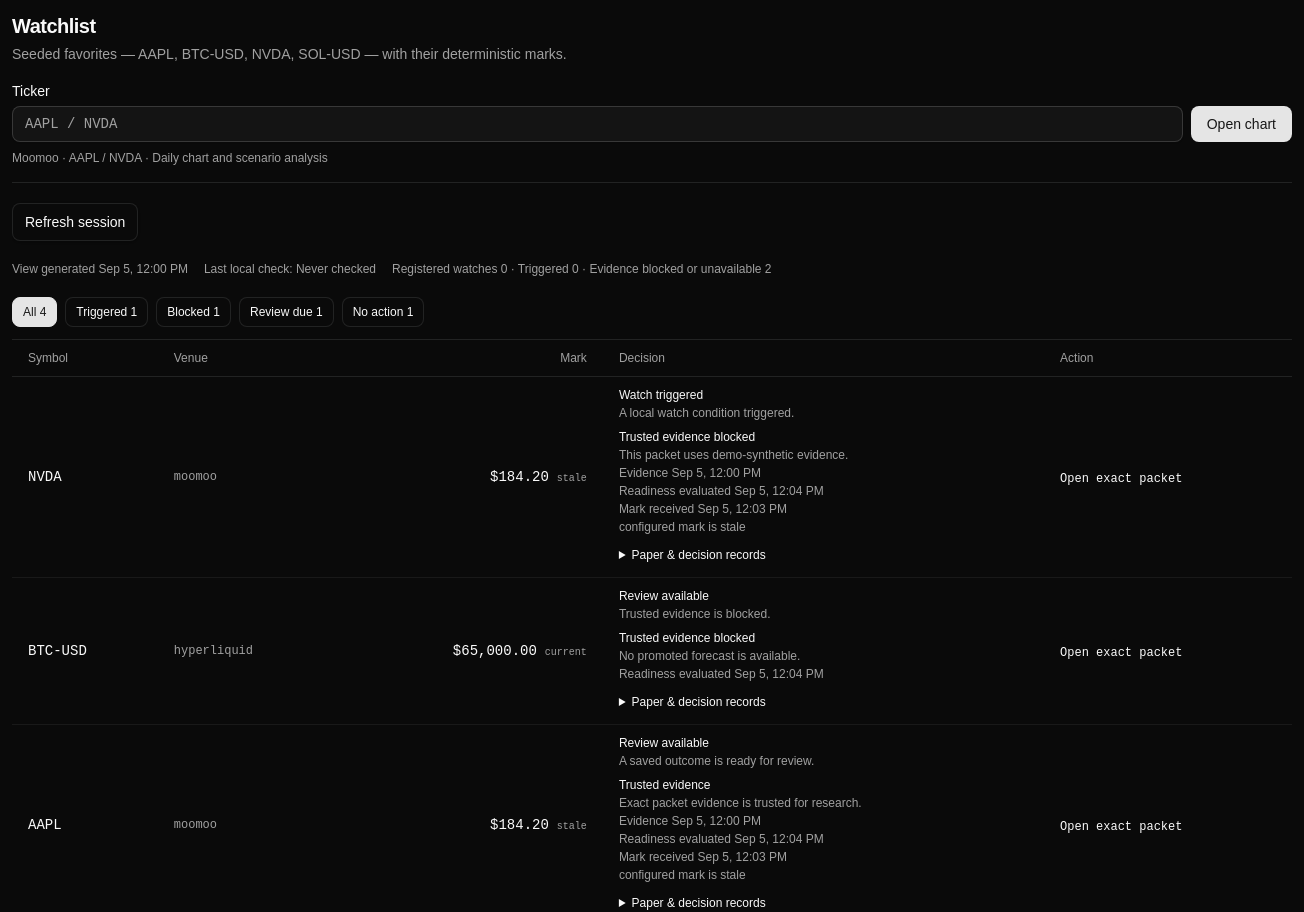
it: filters the four textual attention buckets while preserving exact packet identity
Expected: the button "Triggered 1" is shown, [65, 297, 148, 327]
Expected: the button "Review due 1" is shown, [239, 297, 334, 327]
Click the button "Blocked 1".
click(194, 312)  # box [156, 297, 231, 327]
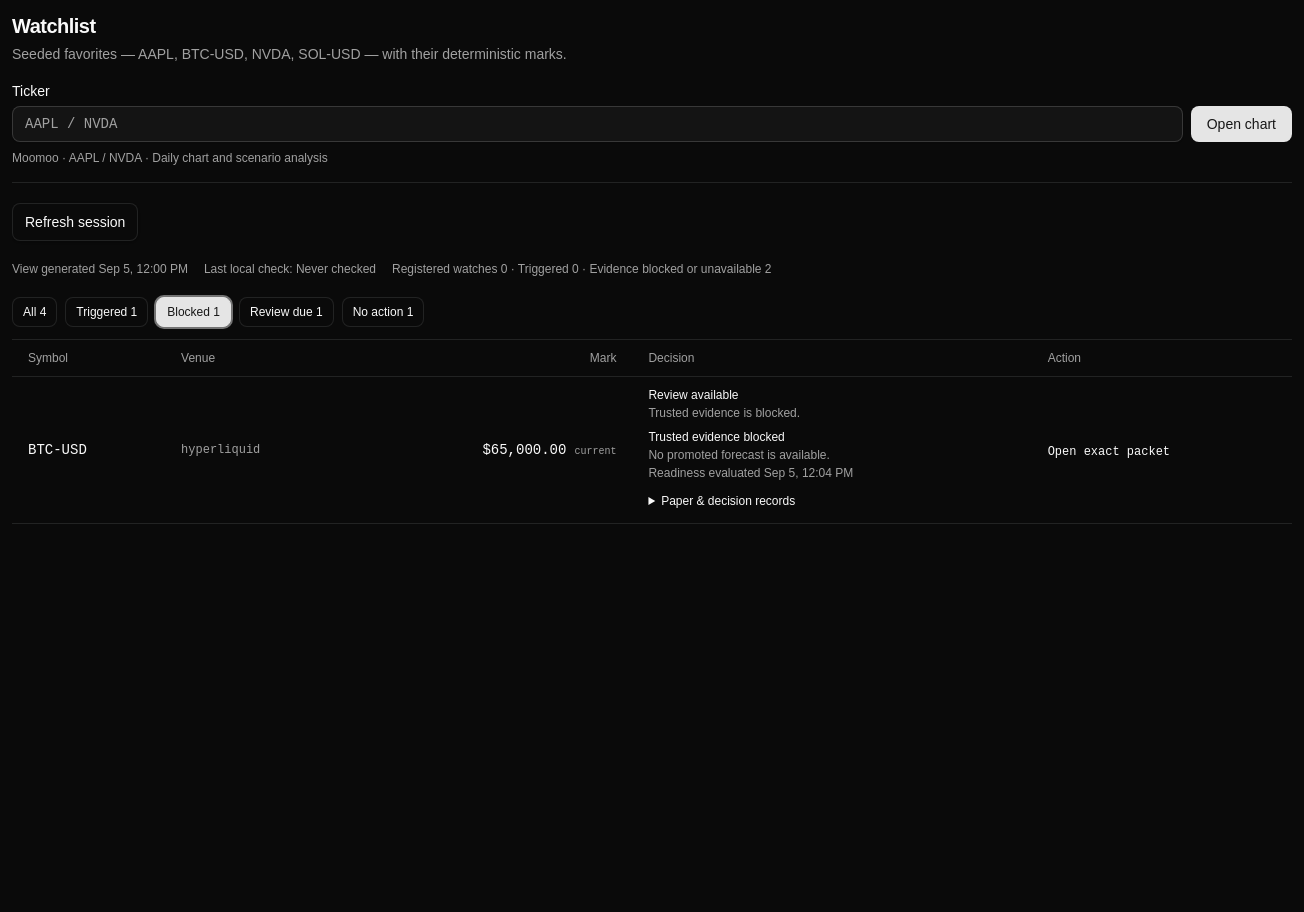
Expected: the text "BTC-USD" is shown, [12, 376, 165, 523]
Expected: the button "Blocked 1" is pressed, [156, 297, 231, 327]
Click the button "Triggered 1".
click(107, 312)  # box [65, 297, 148, 327]
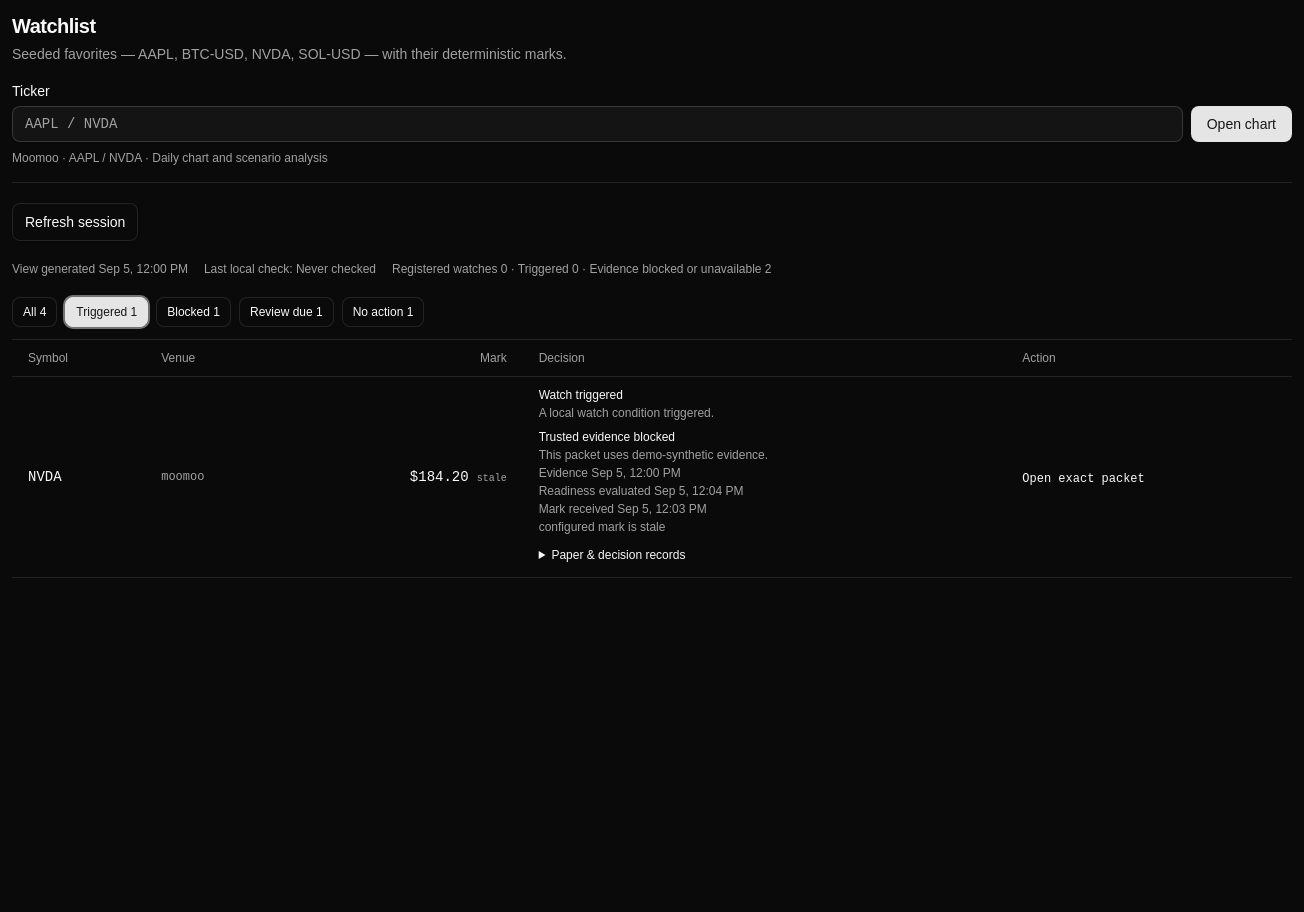
Expected: the link "NVDA" is shown, [28, 469, 62, 485]
Click the button "Review due 1".
click(286, 312)  # box [239, 297, 334, 327]
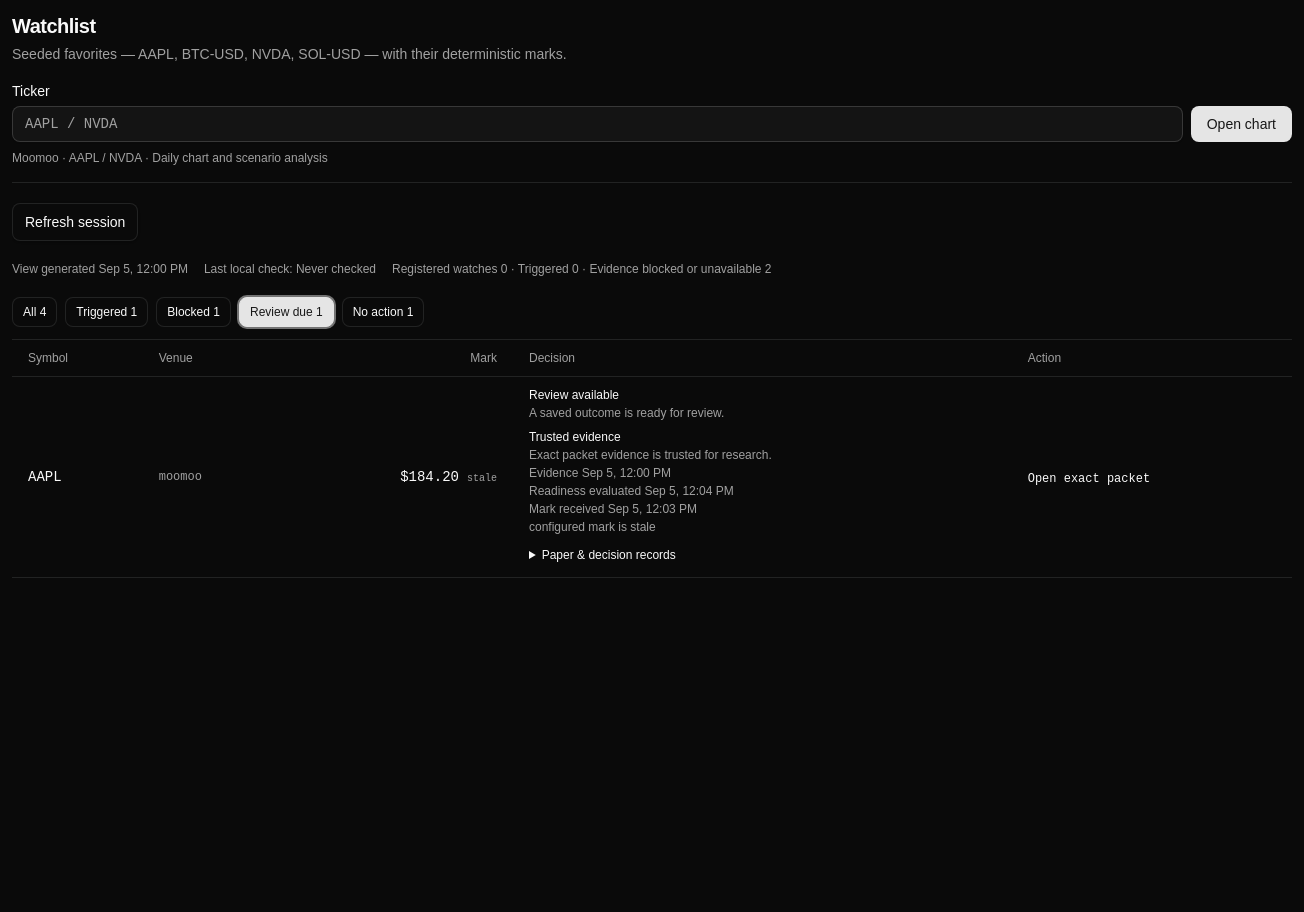
Expected: the link "AAPL" is shown, [28, 469, 62, 485]
Click the button "No action 1".
click(383, 312)  # box [342, 297, 424, 327]
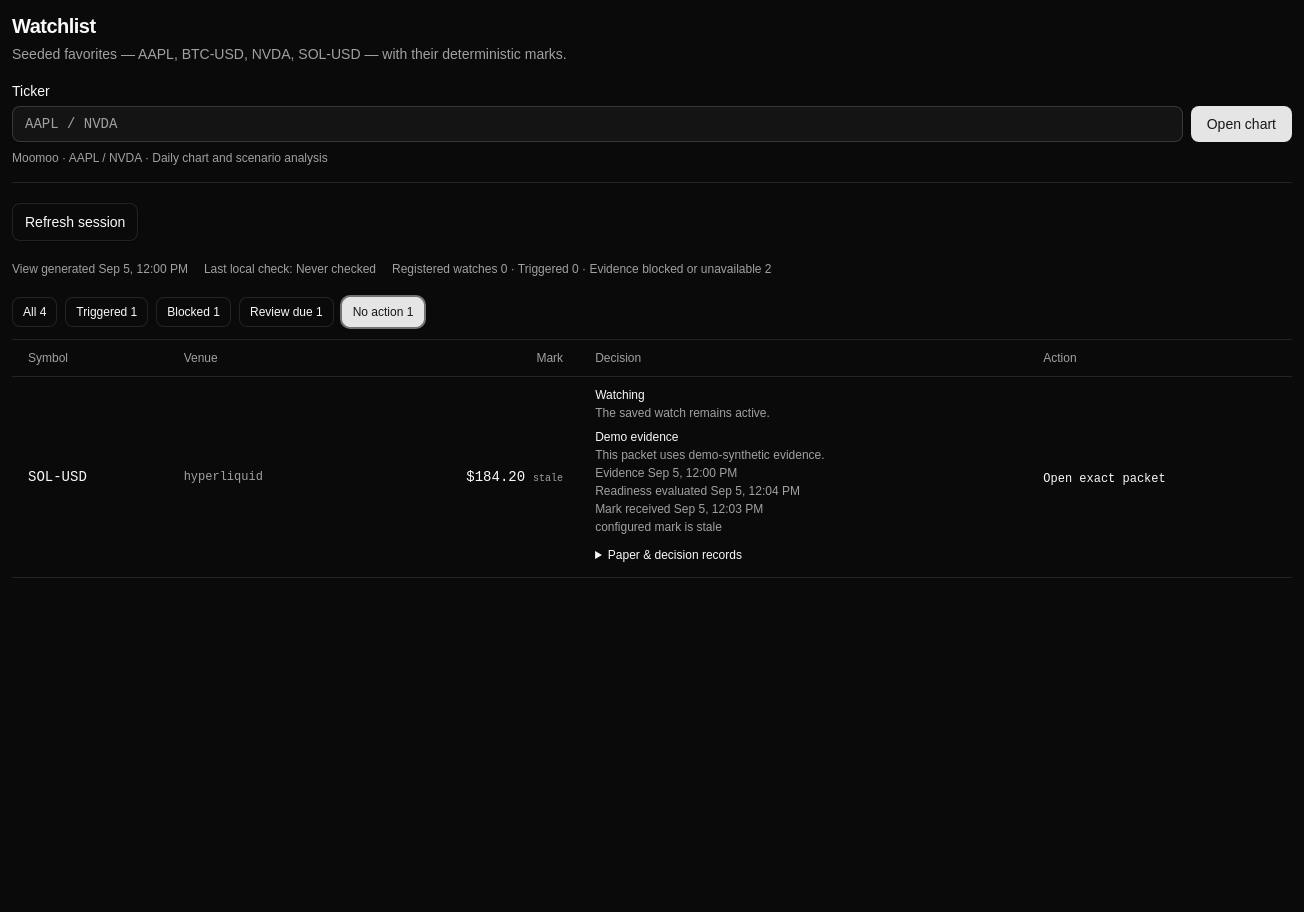
Expected: the text "SOL-USD" is shown, [12, 376, 168, 577]
